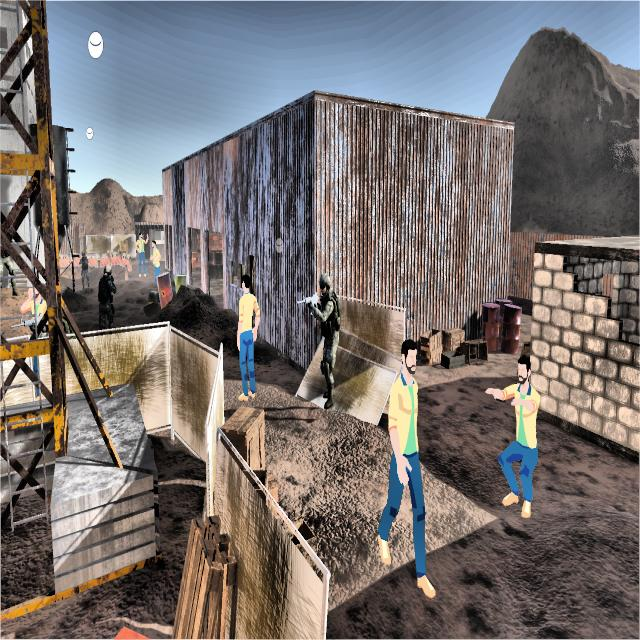bad: (298, 271, 341, 405), (95, 259, 120, 341), (76, 247, 95, 296)
good: (368, 333, 443, 621), (483, 339, 542, 529), (222, 271, 262, 398), (128, 226, 148, 282), (148, 238, 164, 288)
